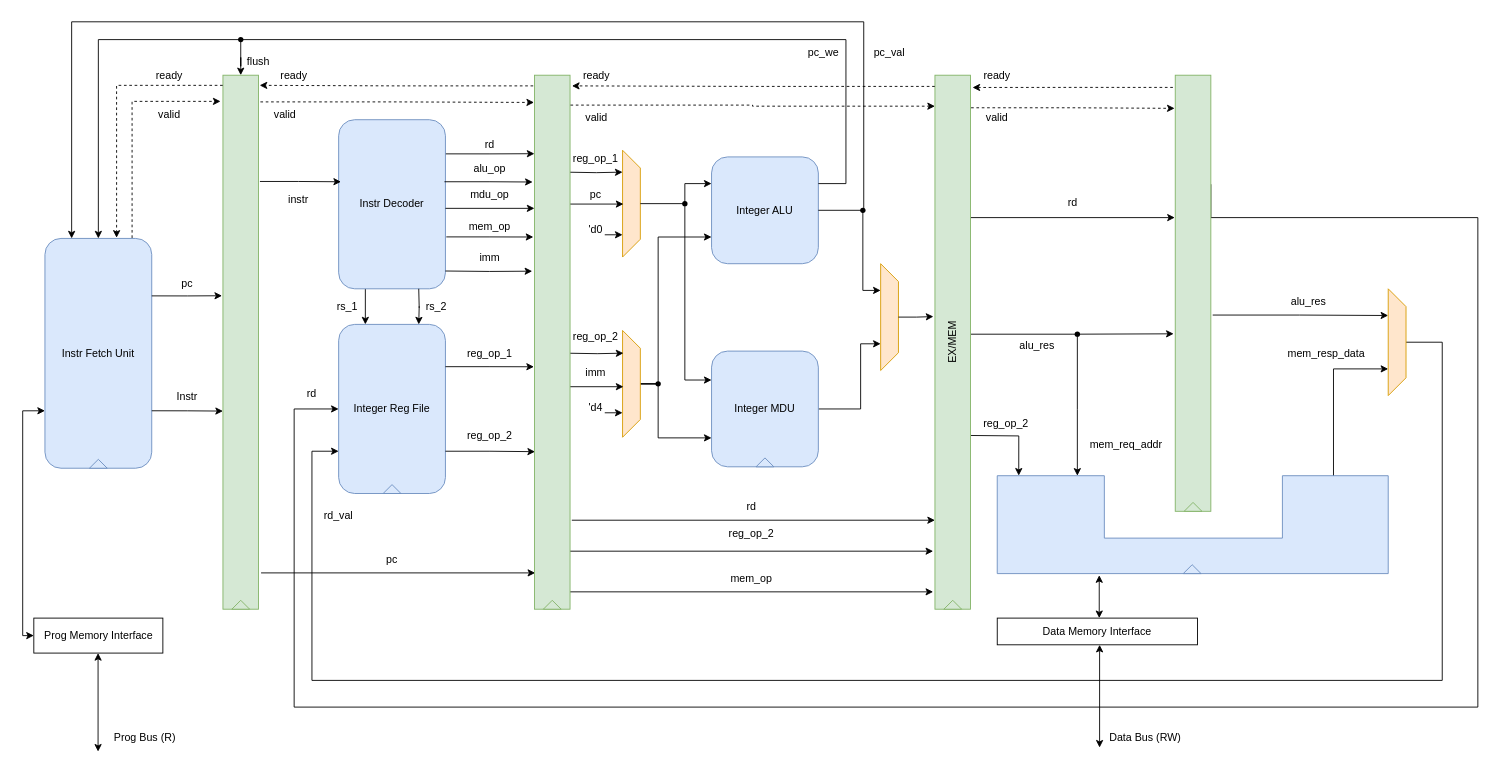
Image size: 1501x775. Some labels were removed from this diagram. Each missing label, with the box of its shape:
ID/EX: (534, 74, 570, 609)
IF/ID: (222, 74, 259, 609)
Load Store Unit: (996, 475, 1388, 574)
MEM/WB: (1174, 74, 1211, 511)
